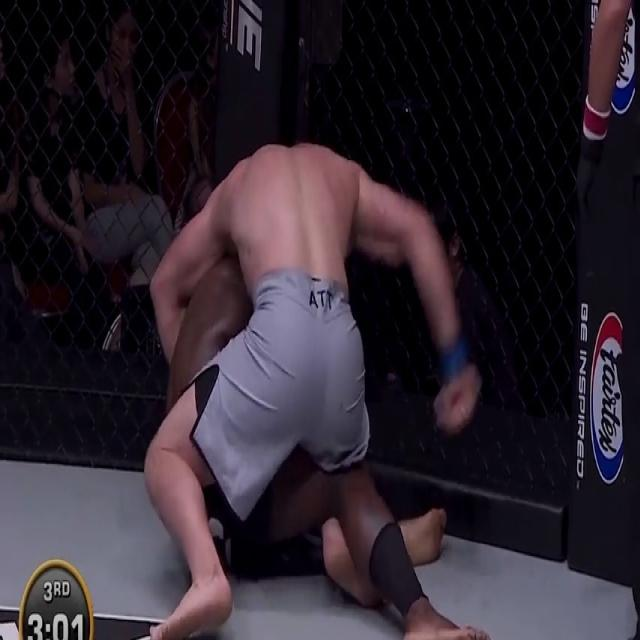fight: (99, 105, 499, 638)
